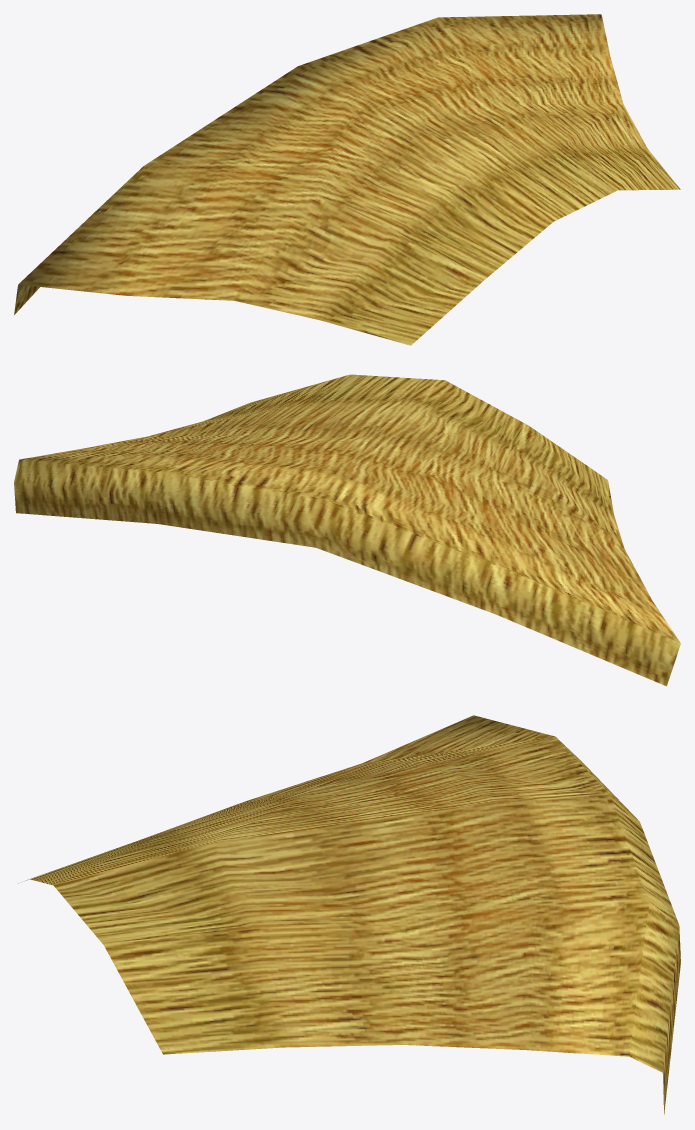
File: HTOWN01_BAGROW2AWNING.fbx
3 renders of one model, top to bottom at view 1: azimuth 30°, elevation 25°; view 2: azimuth 150°, elevation 25°; view 3: azimuth 270°, elevation 25°, orthographic. The views are drawn at different scales.
Parts seen in each view (by area): view 1: HTOWN01_BAGROW2AWNING; view 2: HTOWN01_BAGROW2AWNING; view 3: HTOWN01_BAGROW2AWNING.
Boxes of the visible parts, box(x1,y1,x2,y2) form: HTOWN01_BAGROW2AWNING: box(14, 14, 680, 345); HTOWN01_BAGROW2AWNING: box(14, 374, 680, 686); HTOWN01_BAGROW2AWNING: box(18, 715, 680, 1114).
Size of the model in its own units: 48058 by 10477 by 30012.
2 materials, 2 textured.
